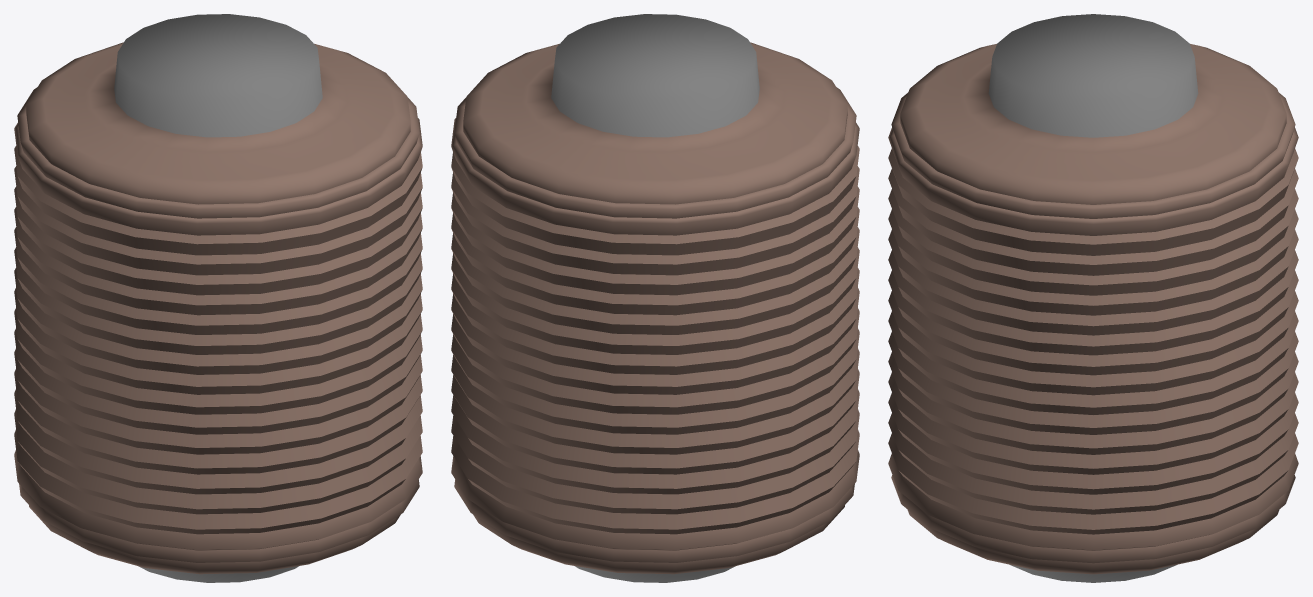
File: Japanese_Lantern_01.fbx
3 views of the same model, side by side, from view 1: azimuth 30°, elevation 25°; view 2: azimuth 150°, elevation 25°; view 3: azimuth 270°, elevation 25° (orthographic).
Visible parts, largest first — view 1: pCylinder1; view 2: pCylinder1; view 3: pCylinder1.
Boxes of the visible parts, left/top/right/bottom form: pCylinder1: left=14, top=14, right=422, bottom=582; pCylinder1: left=451, top=14, right=859, bottom=582; pCylinder1: left=888, top=14, right=1298, bottom=582.
Bounding box in the file's own units: 0.3309 × 0.4292 × 0.3309.
